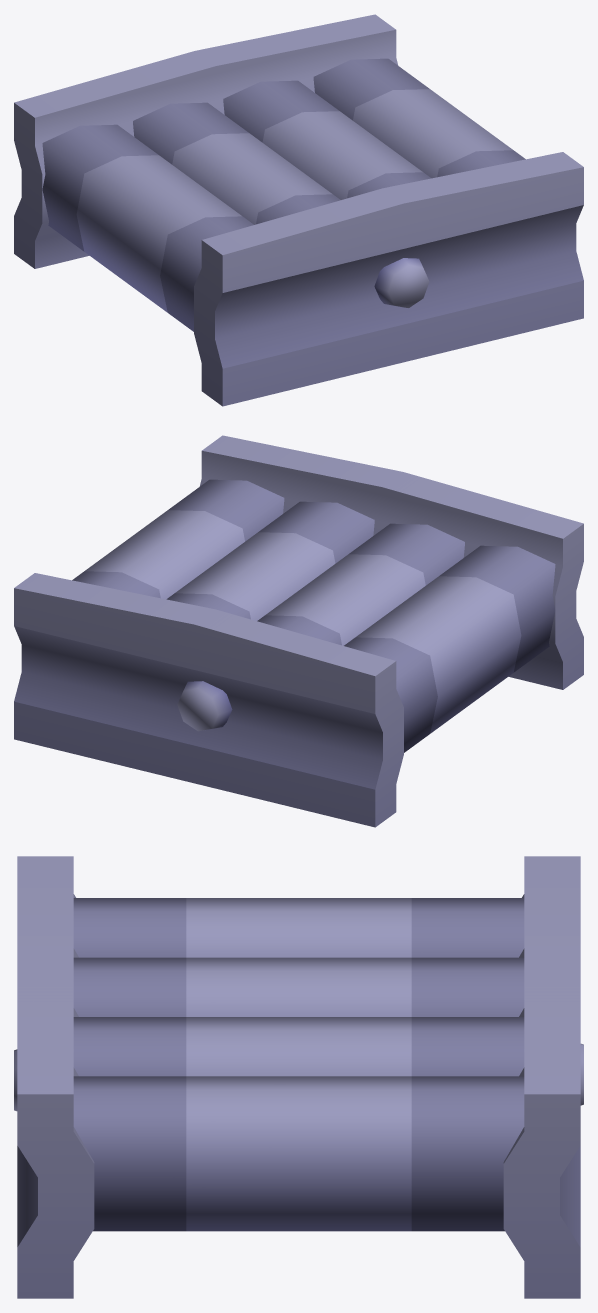
File: kenney-factory-conveyor-bars-stripe-high.glb
The picture shows the model from 3 angles, top to bottom: view 1: azimuth 30°, elevation 25°; view 2: azimuth 150°, elevation 25°; view 3: azimuth 270°, elevation 25°; orthographic projection. The views are drawn at different scales.
Visible parts, largest first — view 1: conveyor-bars-stripe-high; view 2: conveyor-bars-stripe-high; view 3: conveyor-bars-stripe-high.
Boxes of the visible parts, box(x1,y1,x2,y2) form: conveyor-bars-stripe-high: box(14, 14, 583, 406); conveyor-bars-stripe-high: box(14, 435, 583, 827); conveyor-bars-stripe-high: box(14, 856, 583, 1298).
Size of the model in its own units: 1.5 by 0.63 by 1.52.
Materials: 1 (1 with a texture image).
